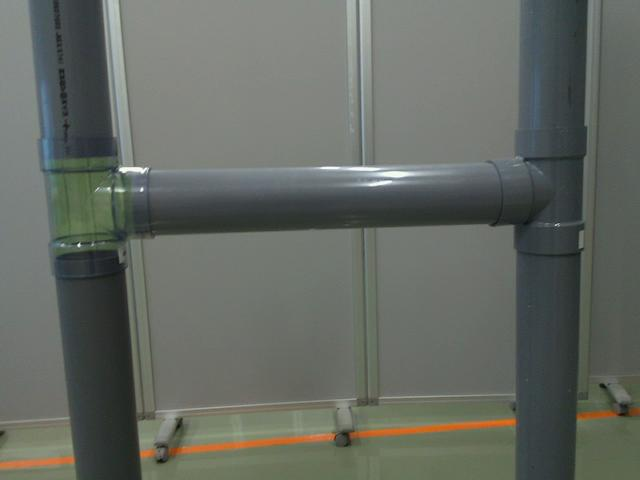junction: (44, 133, 150, 280), (482, 126, 590, 255)
